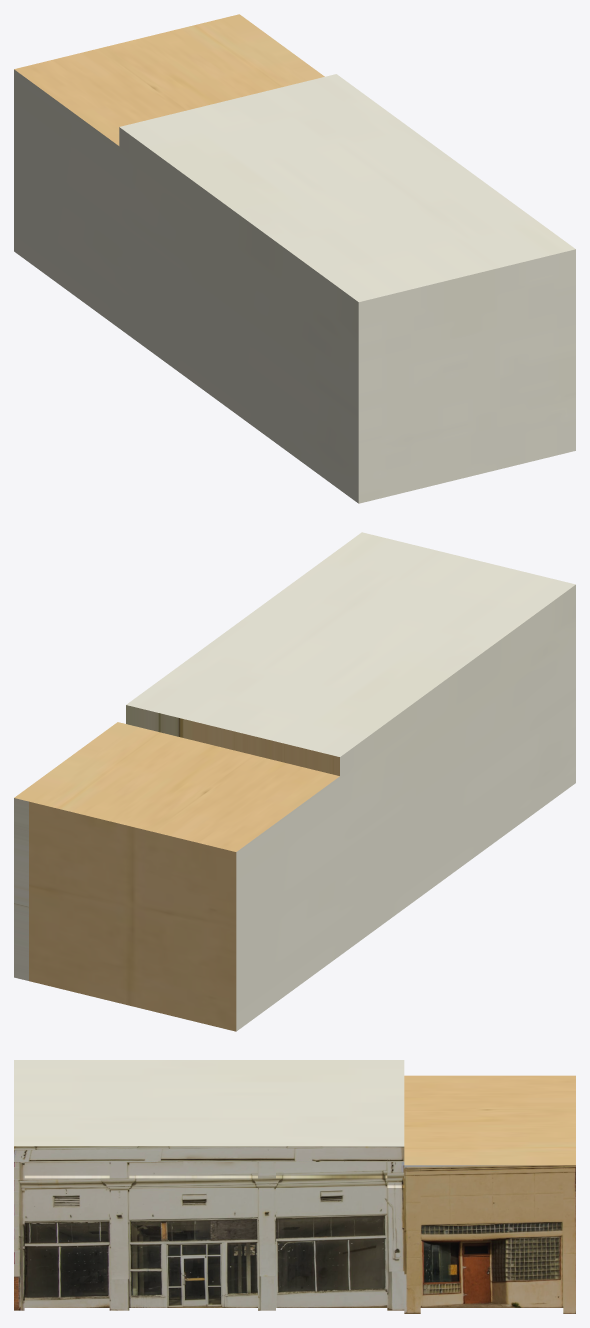
The model's file is Build-White_Ski1nfbx.fbx.
3 renders of one model, top to bottom at view 1: azimuth 30°, elevation 25°; view 2: azimuth 150°, elevation 25°; view 3: azimuth 270°, elevation 25°, orthographic. The views are drawn at different scales.
Visible parts, largest first — view 1: Cube; view 2: Cube; view 3: Cube.
Part boxes in pixels (box(x1,y1,x2,y2)): Cube: box(14, 14, 575, 503); Cube: box(14, 532, 575, 1031); Cube: box(14, 1060, 575, 1313).
Size of the model in its own units: 255 by 217 by 674.
1 material, 1 textured.
